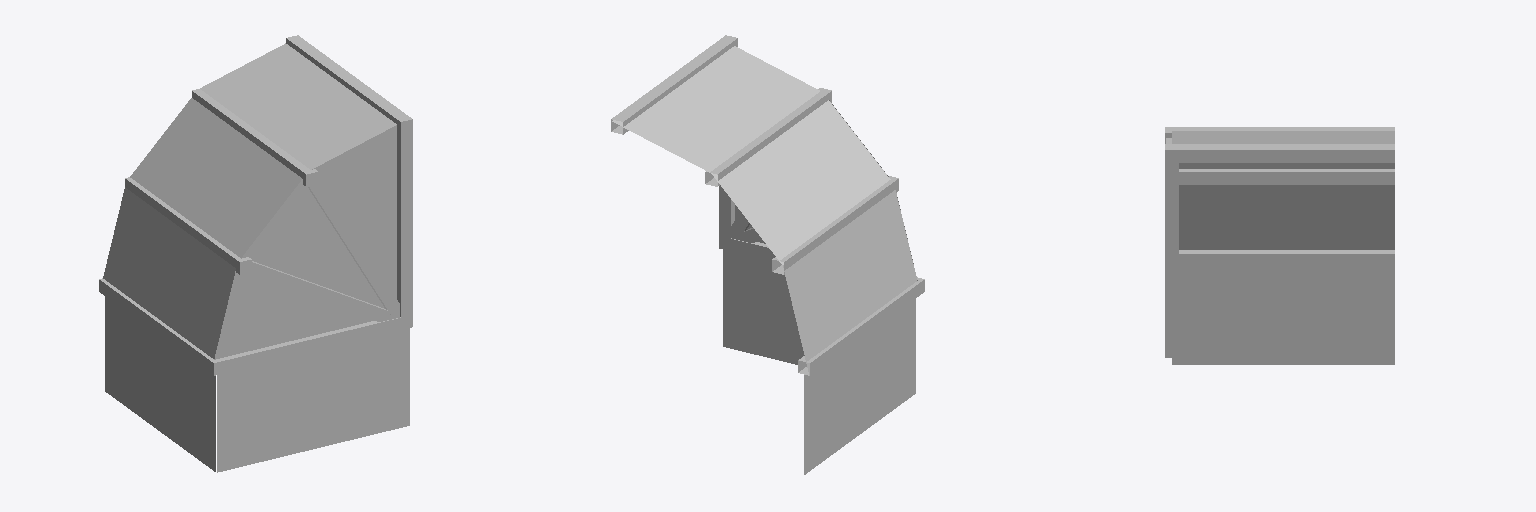
File: mt_awning_basket_right.obj
3 renders of one model, left to right at view 1: azimuth 30°, elevation 25°; view 2: azimuth 150°, elevation 25°; view 3: azimuth 270°, elevation 25°, orthographic.
Parts seen in each view (by area): view 1: cube.010, cube, cube.001, cube.000, cube.002, cube.004, cube.008, cube.003, cube.009, cube.006, cube.005, cube.007 (+4 smaller); view 2: cube, cube.001, cube.000, cube.002, cube.010, cube.014, cube.011, cube.013, cube.012, cube.009, cube.006; view 3: cube.002, cube.000, cube.014, cube.011, cube.012, cube.001, cube.006, cube, cube.013.
Part boxes in pixels (x1,y1,x2,y2): cube.010: (217, 328, 409, 472); cube: (130, 98, 301, 257); cube.001: (200, 43, 396, 169); cube.000: (103, 187, 235, 358); cube.002: (105, 297, 215, 471); cube.004: (312, 125, 396, 298); cube.008: (241, 179, 384, 308); cube.003: (214, 271, 373, 359); cube.009: (223, 315, 412, 372); cube.006: (397, 132, 412, 317); cube.005: (308, 178, 399, 318); cube.007: (246, 261, 392, 321); cube: (711, 100, 890, 264); cube.001: (612, 46, 819, 172); cube.000: (783, 190, 916, 375); cube.002: (804, 299, 915, 474); cube.010: (723, 250, 804, 364); cube.014: (611, 35, 737, 134); cube.011: (798, 277, 924, 375); cube.013: (705, 88, 831, 186); cube.012: (772, 176, 898, 274); cube.009: (719, 236, 775, 260); cube.006: (719, 185, 734, 238); cube.002: (1172, 267, 1394, 364); cube.000: (1179, 185, 1394, 249); cube.014: (1165, 144, 1394, 162); cube.011: (1179, 250, 1394, 266); cube.012: (1179, 169, 1394, 184); cube.001: (1172, 131, 1394, 143); cube.006: (1165, 163, 1178, 345); cube: (1179, 163, 1394, 168); cube.013: (1165, 127, 1394, 143).
Bounding box in the file's own units: 1.03 × 1.53 × 1.03.